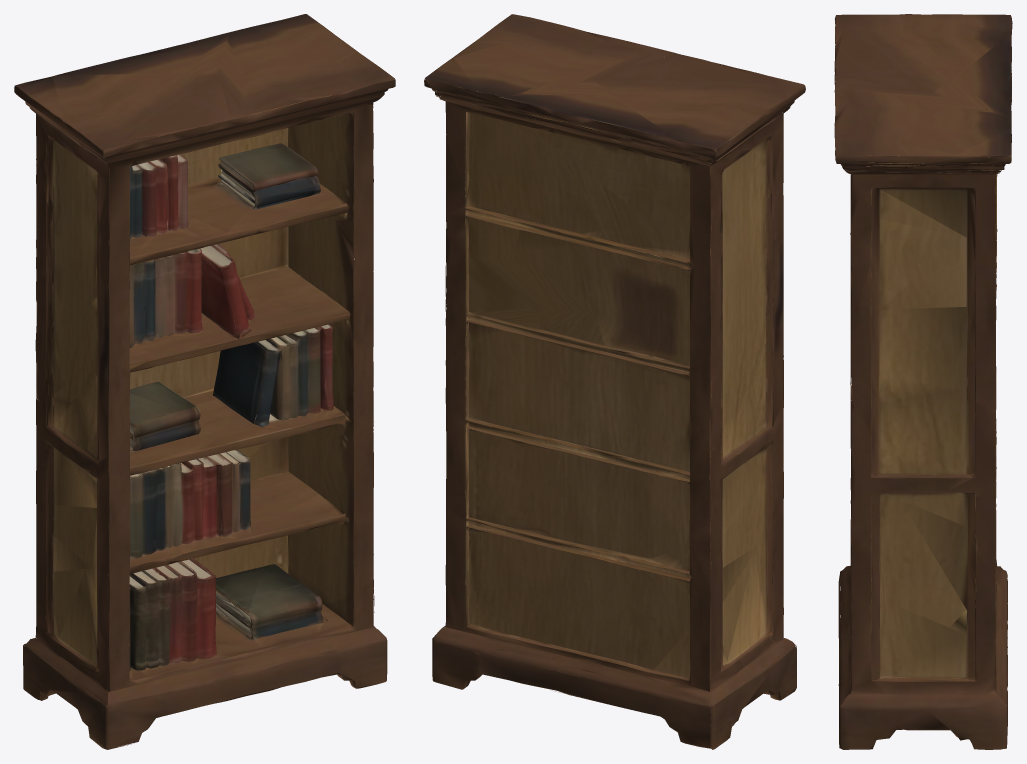
Rendered from trellis2-roomscale-025.glb.
The picture shows the model from 3 angles, left to right: view 1: azimuth 30°, elevation 25°; view 2: azimuth 150°, elevation 25°; view 3: azimuth 270°, elevation 25°; orthographic projection.
Parts seen in each view (by area): view 1: world; view 2: world; view 3: world.
Boxes of the visible parts, <box> form: world: <box>14,14,395,749</box>; world: <box>424,14,805,749</box>; world: <box>834,14,1012,749</box>.
Size of the model in its own units: 32 by 63 by 17.
1 material, 1 textured.
